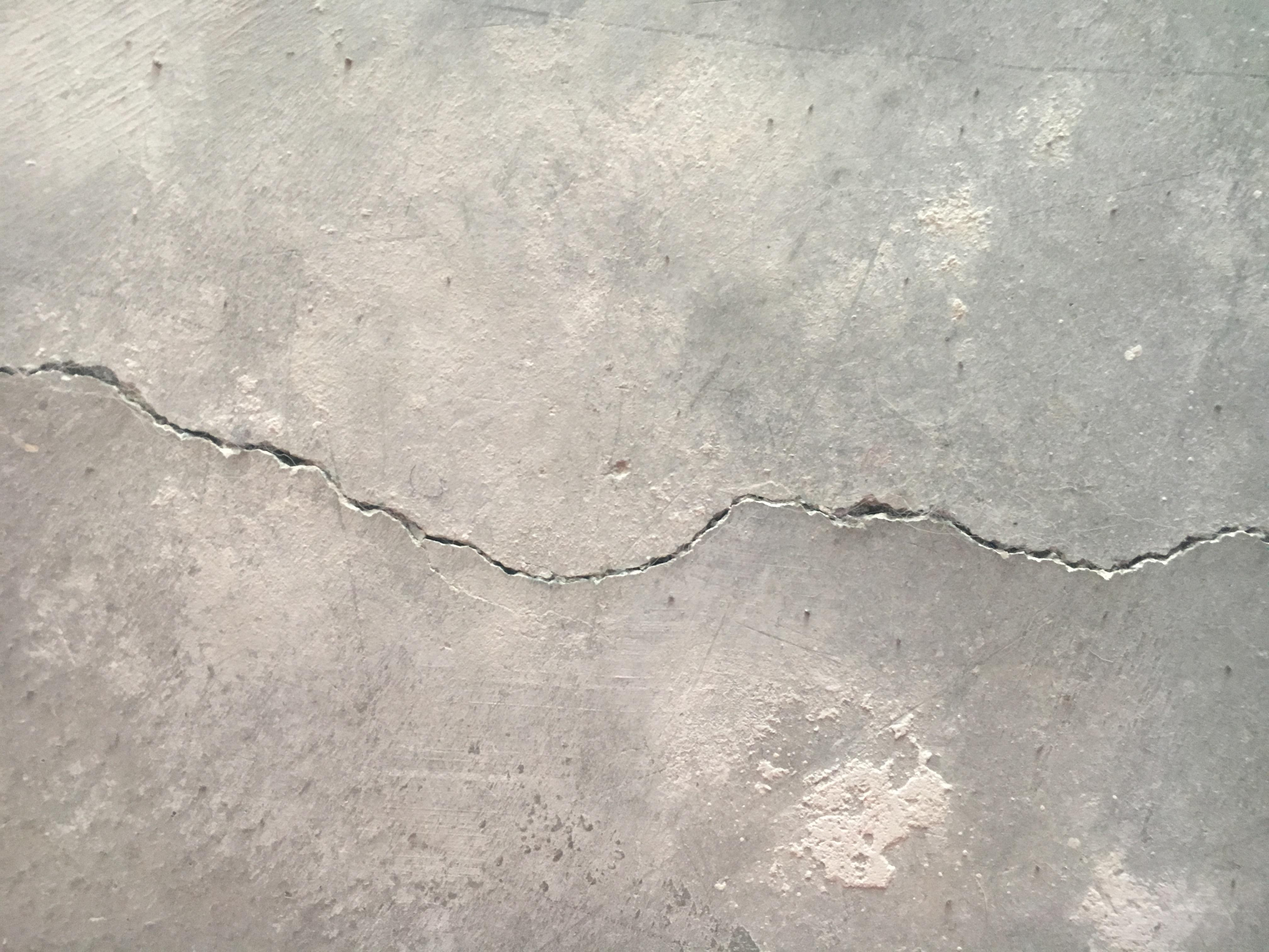Horizontal Settlement Crack: (2, 354, 1266, 595)
